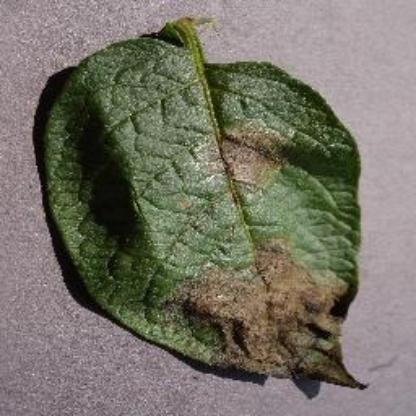Late-Blight: (28, 10, 380, 398)
